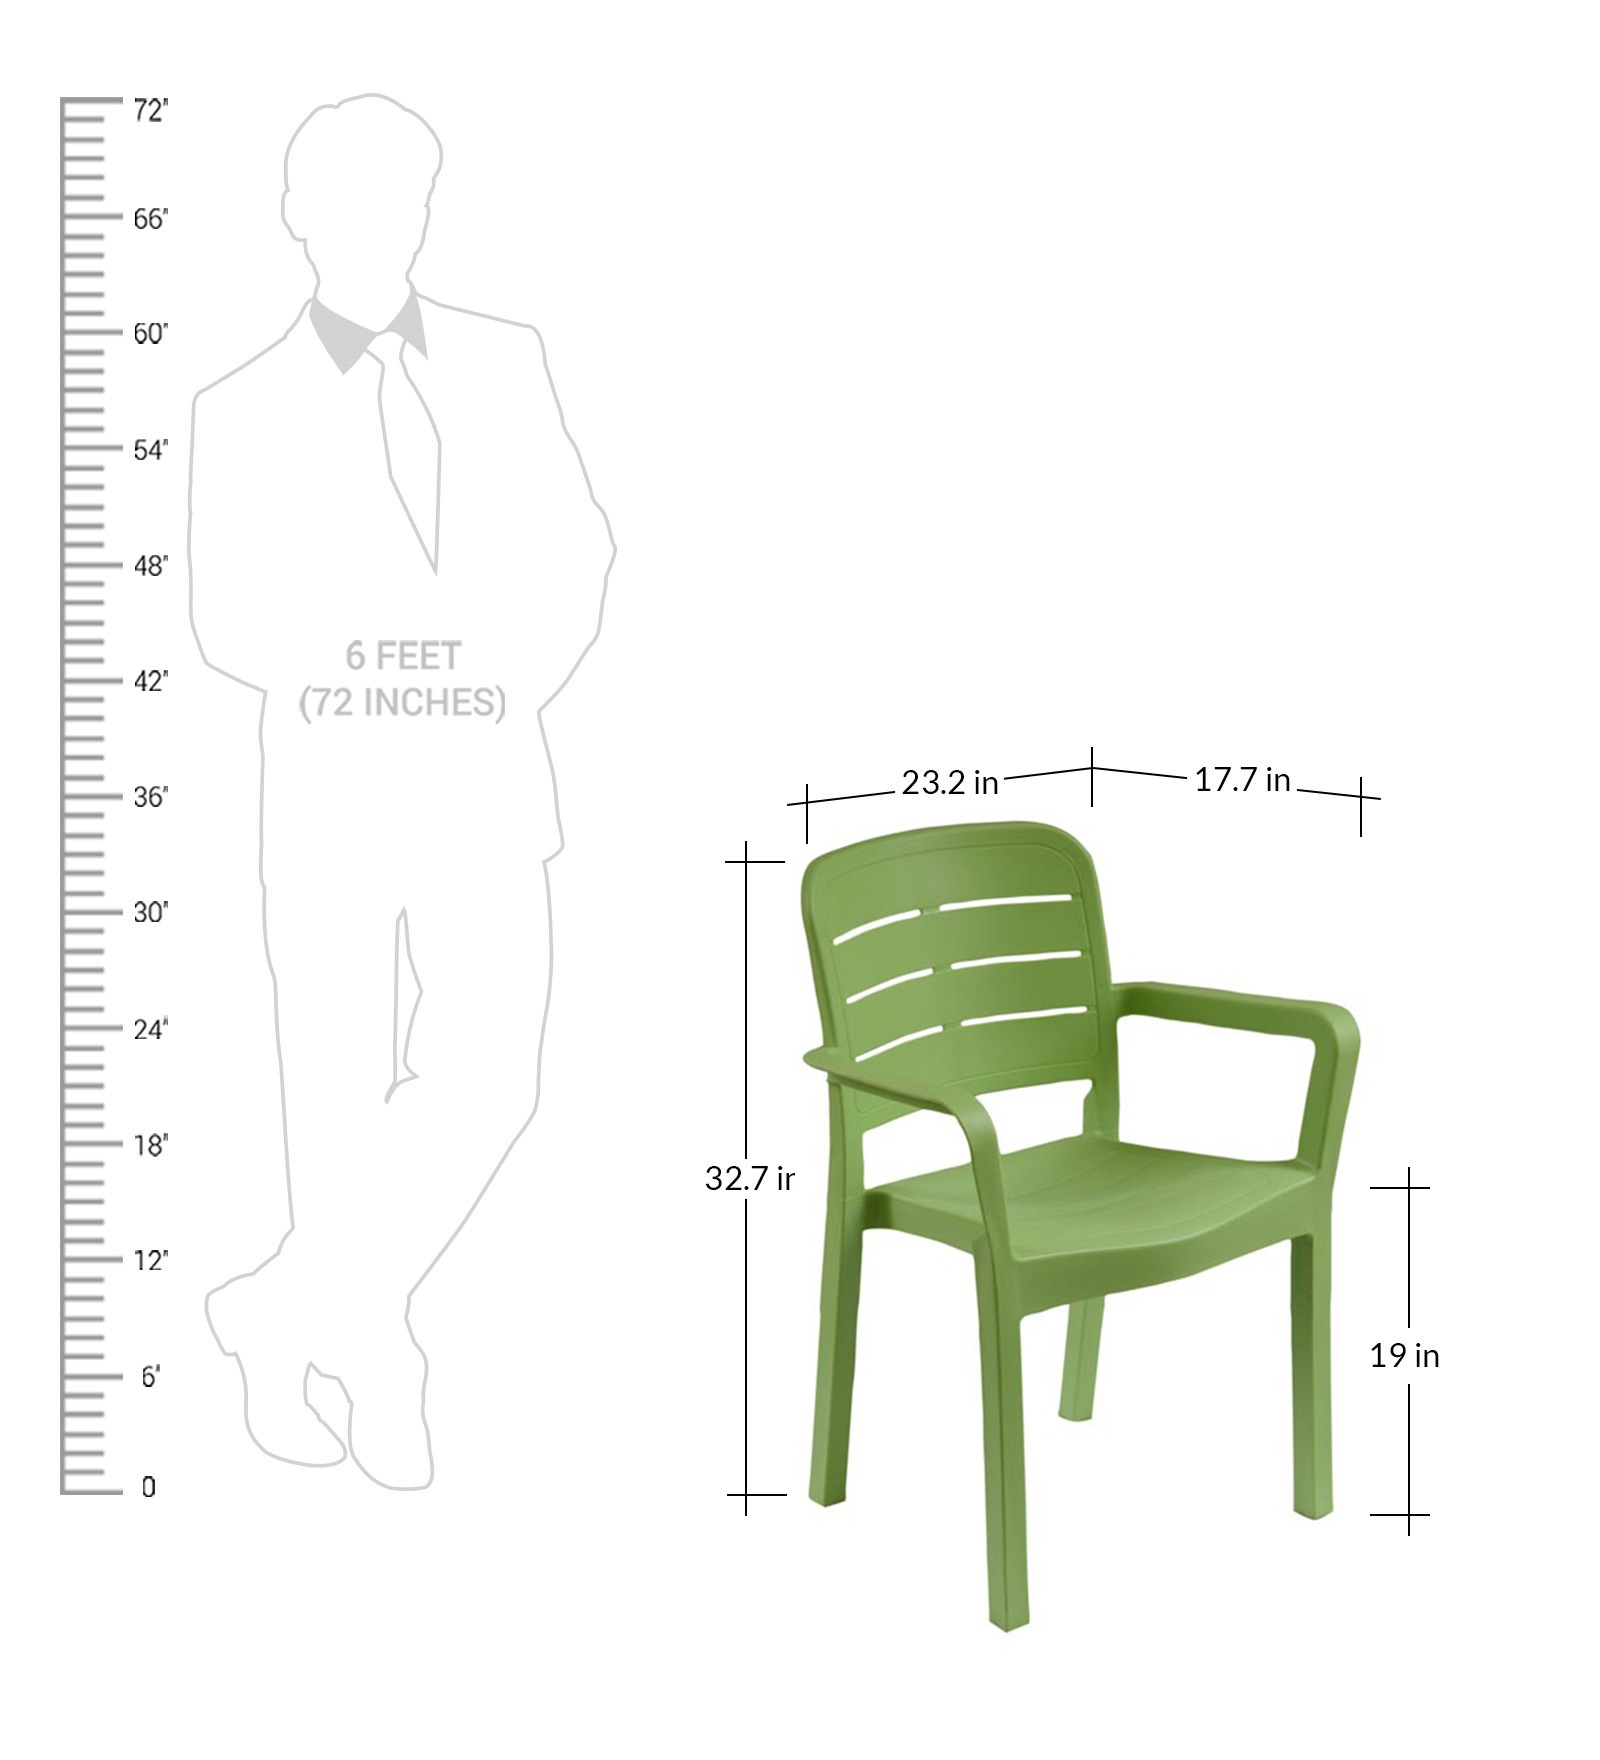Luxury Plastic Chair in Green Colour by Italica Furniture: (803, 822, 1349, 1622)
